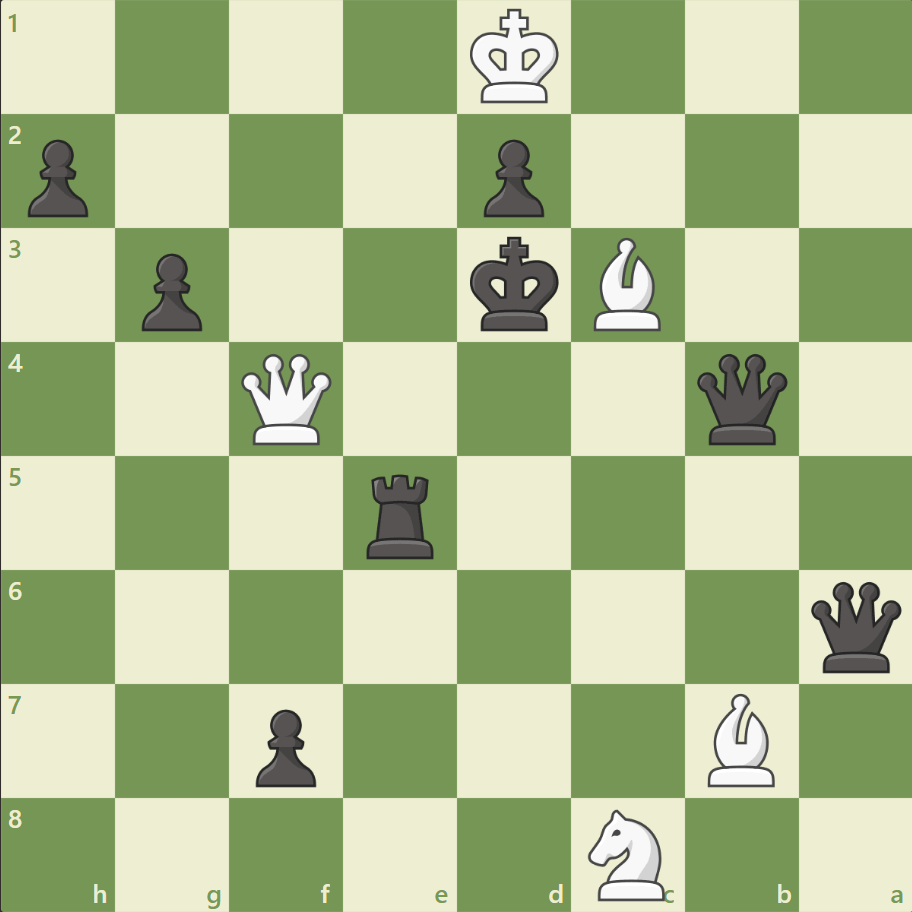B: (698, 687, 782, 790), (585, 233, 669, 336)
K: (465, 4, 565, 112)
N: (579, 802, 676, 904)
Q: (237, 349, 336, 449)
k: (465, 231, 565, 339)
p: (247, 700, 322, 791), (133, 246, 208, 337), (474, 132, 549, 223), (20, 132, 95, 223)
q: (805, 576, 904, 676), (691, 349, 790, 449)
r: (360, 466, 442, 563)
